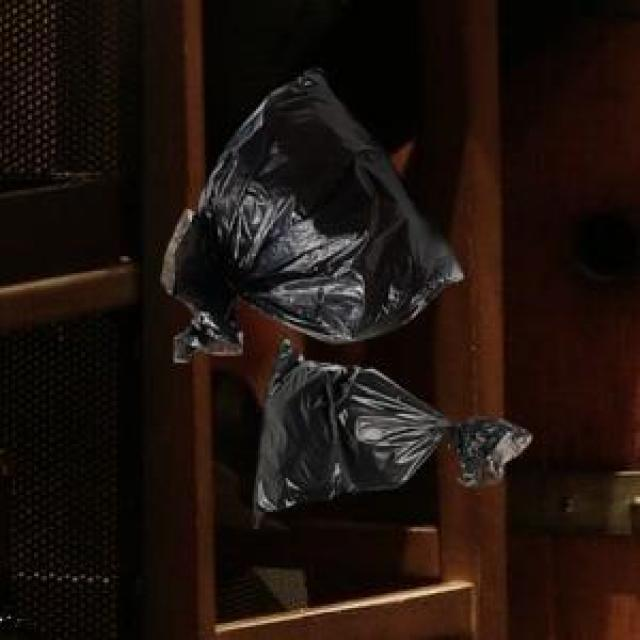Vinyl: (161, 70, 462, 358), (254, 339, 449, 512), (452, 420, 530, 486)
